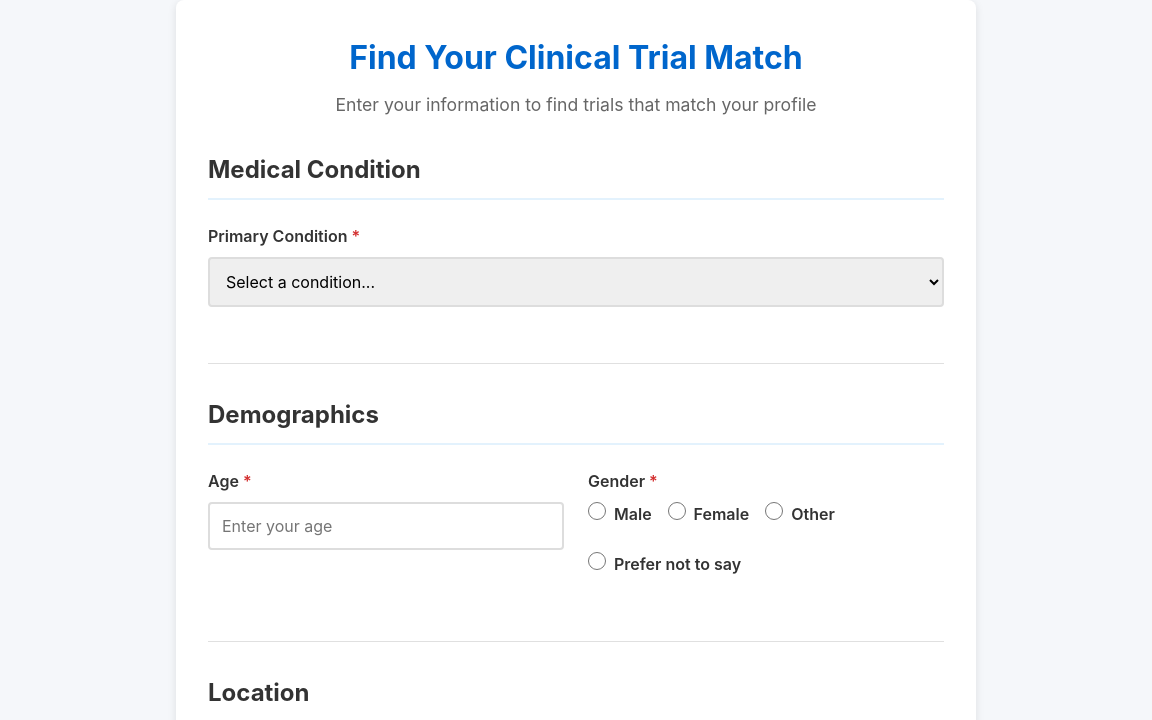
Test case: PatientProfileForm › Form Validation - Custom Condition › shows custom condition field when "Other" is selected
Select "Other (specify below)" in the dropdown labelled "Primary Condition *": (576, 282) x1=208 y1=257 x2=944 y2=307
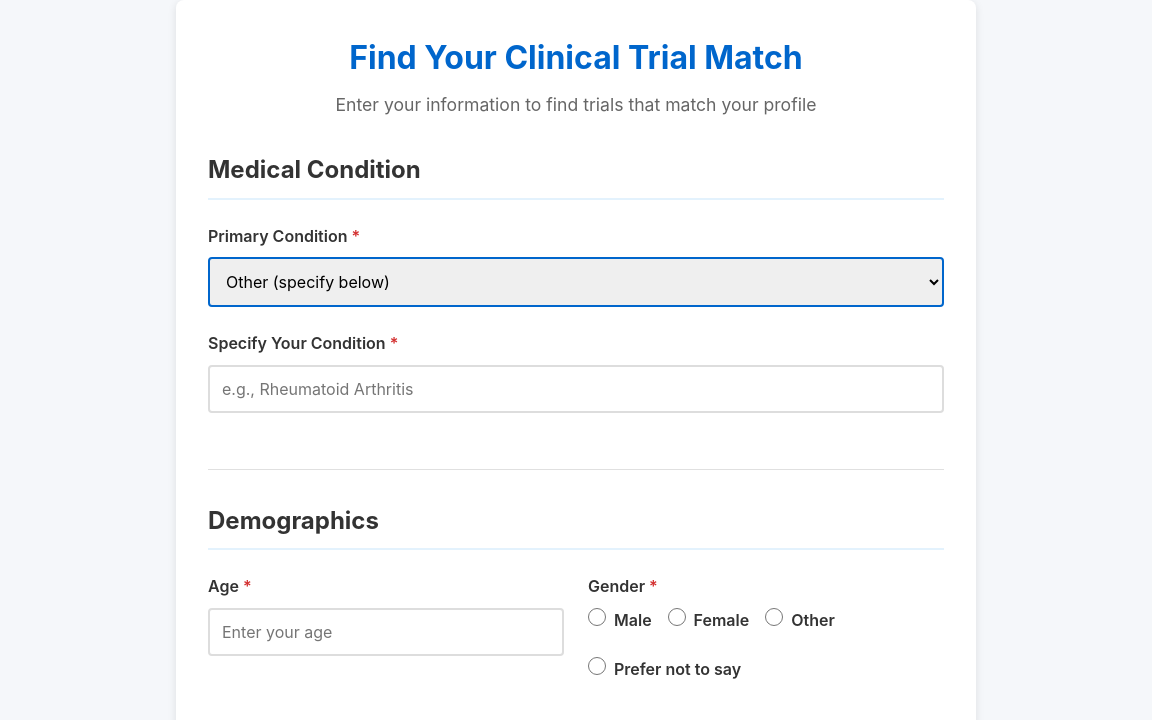
expect the field labelled "Specify Your Condition *" is shown: met, box x1=208 y1=365 x2=944 y2=413
